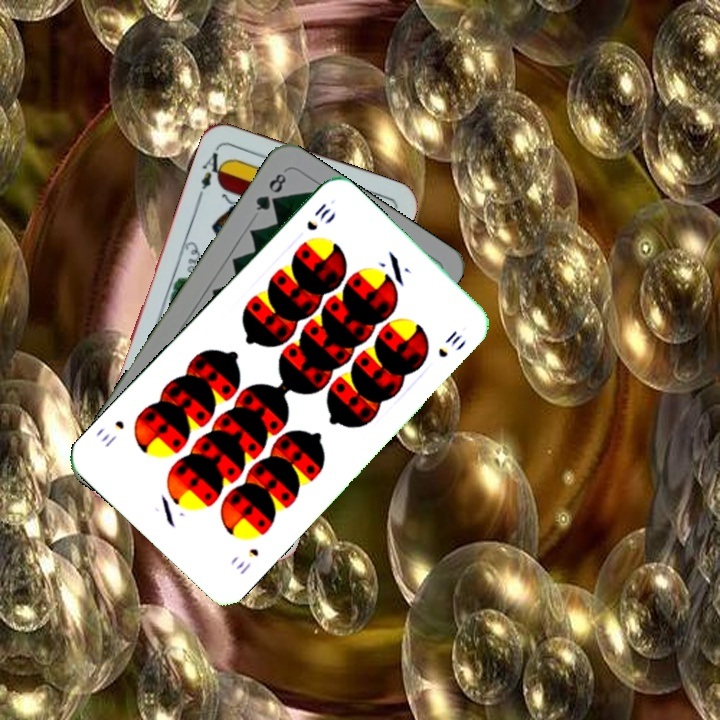EA: (194, 148, 229, 200)
G8: (251, 169, 289, 214)
S10: (302, 199, 333, 233), (232, 544, 261, 578)
